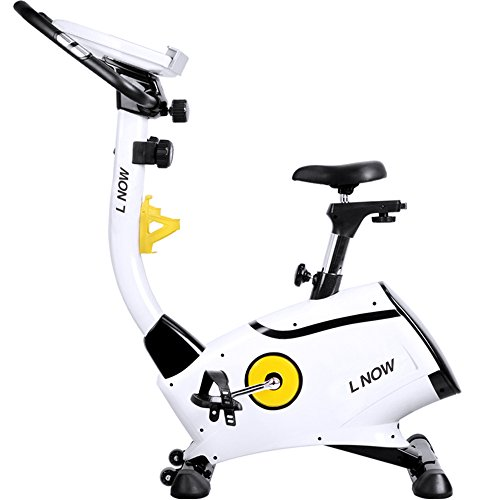gym_bike: (12, 1, 477, 499)
